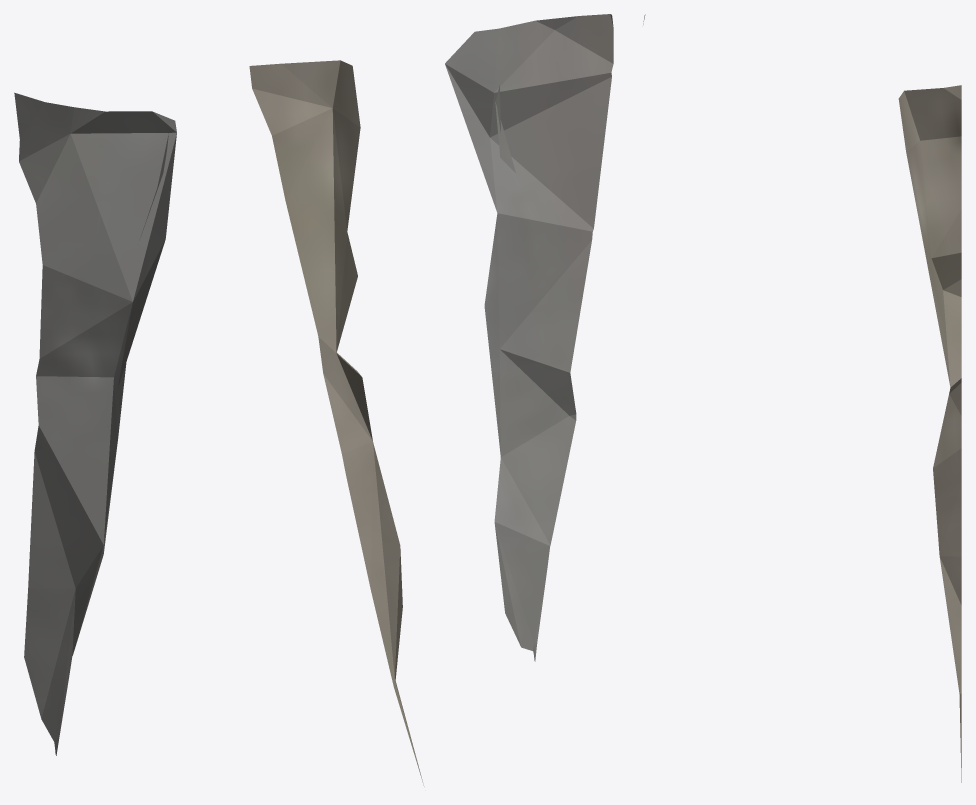
3 views of the same model, side by side, from view 1: azimuth 30°, elevation 25°; view 2: azimuth 150°, elevation 25°; view 3: azimuth 270°, elevation 25° (orthographic). The views are drawn at different scales.
Size of the model in its own units: 0.1416 by 0.4204 by 0.1615.
1 material, 1 textured.
